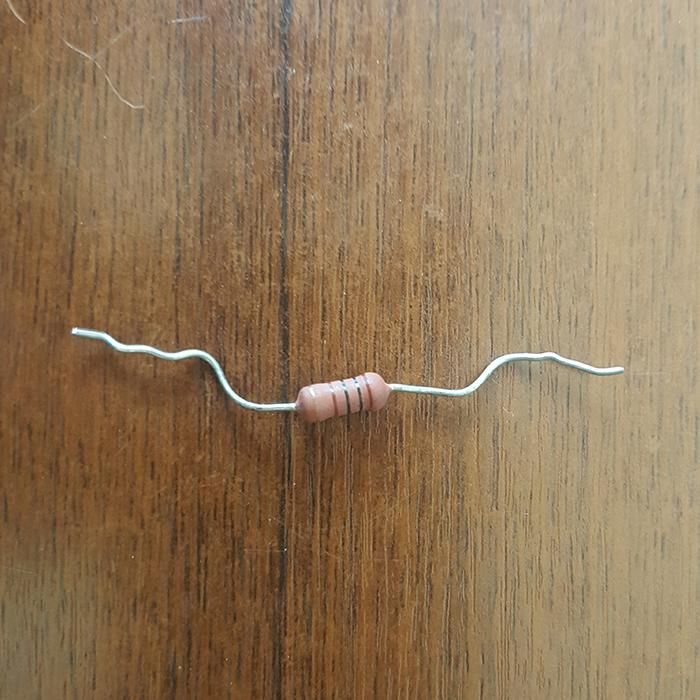resistor: (292, 370, 390, 422)
